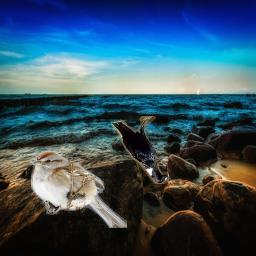Crow: (111, 116, 169, 184)
Sparrow: (31, 151, 127, 228)
